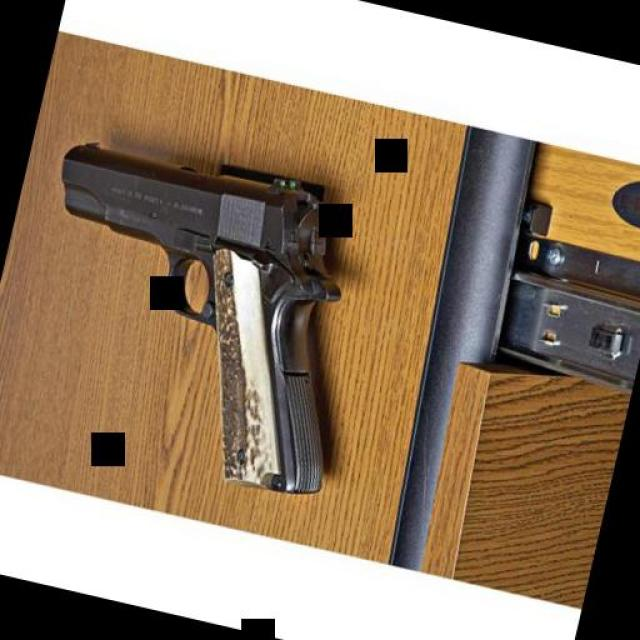gun: (2, 118, 394, 506)
